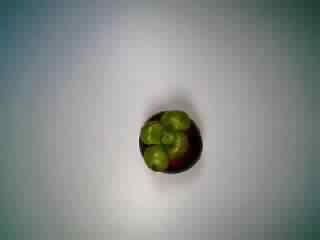mangosteen: (131, 105, 205, 175)
